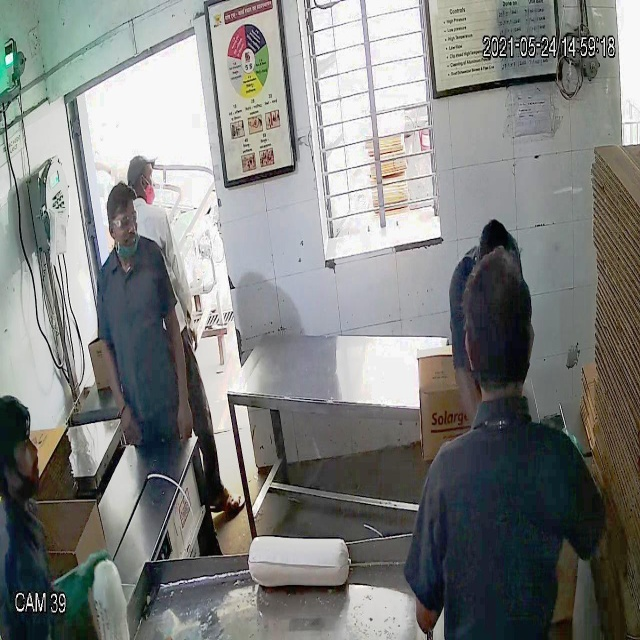Gafas: (106, 209, 141, 236)
